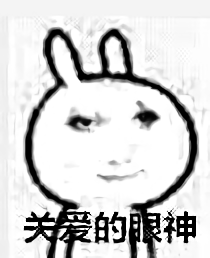dragon: (68, 103, 162, 184)
